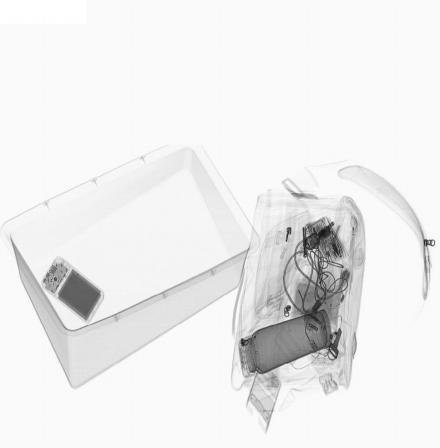Powerbank: (39, 253, 108, 327)
